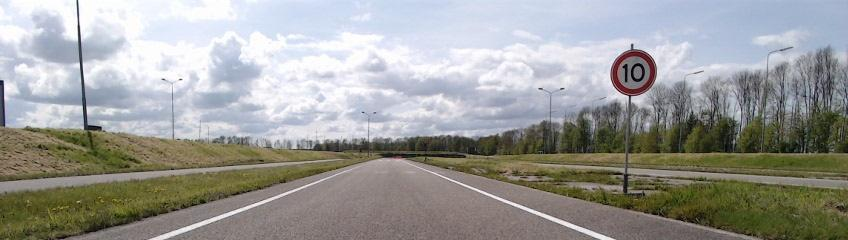Speed-limit-10km-h-: (610, 49, 658, 96)
